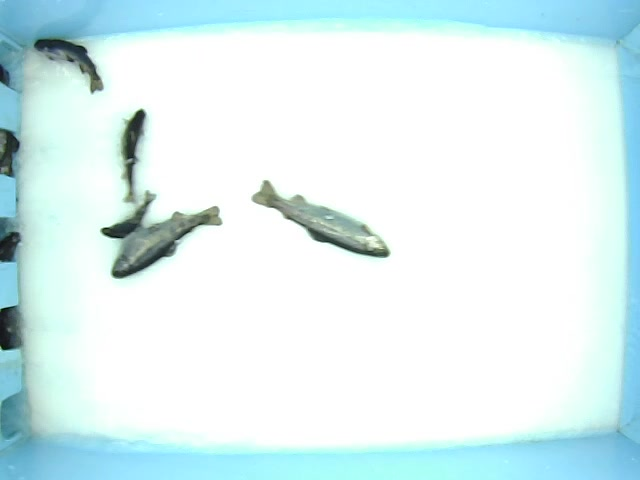fish: (249, 179, 391, 259), (109, 204, 222, 279), (30, 37, 103, 95), (99, 188, 157, 239), (120, 107, 148, 204)
